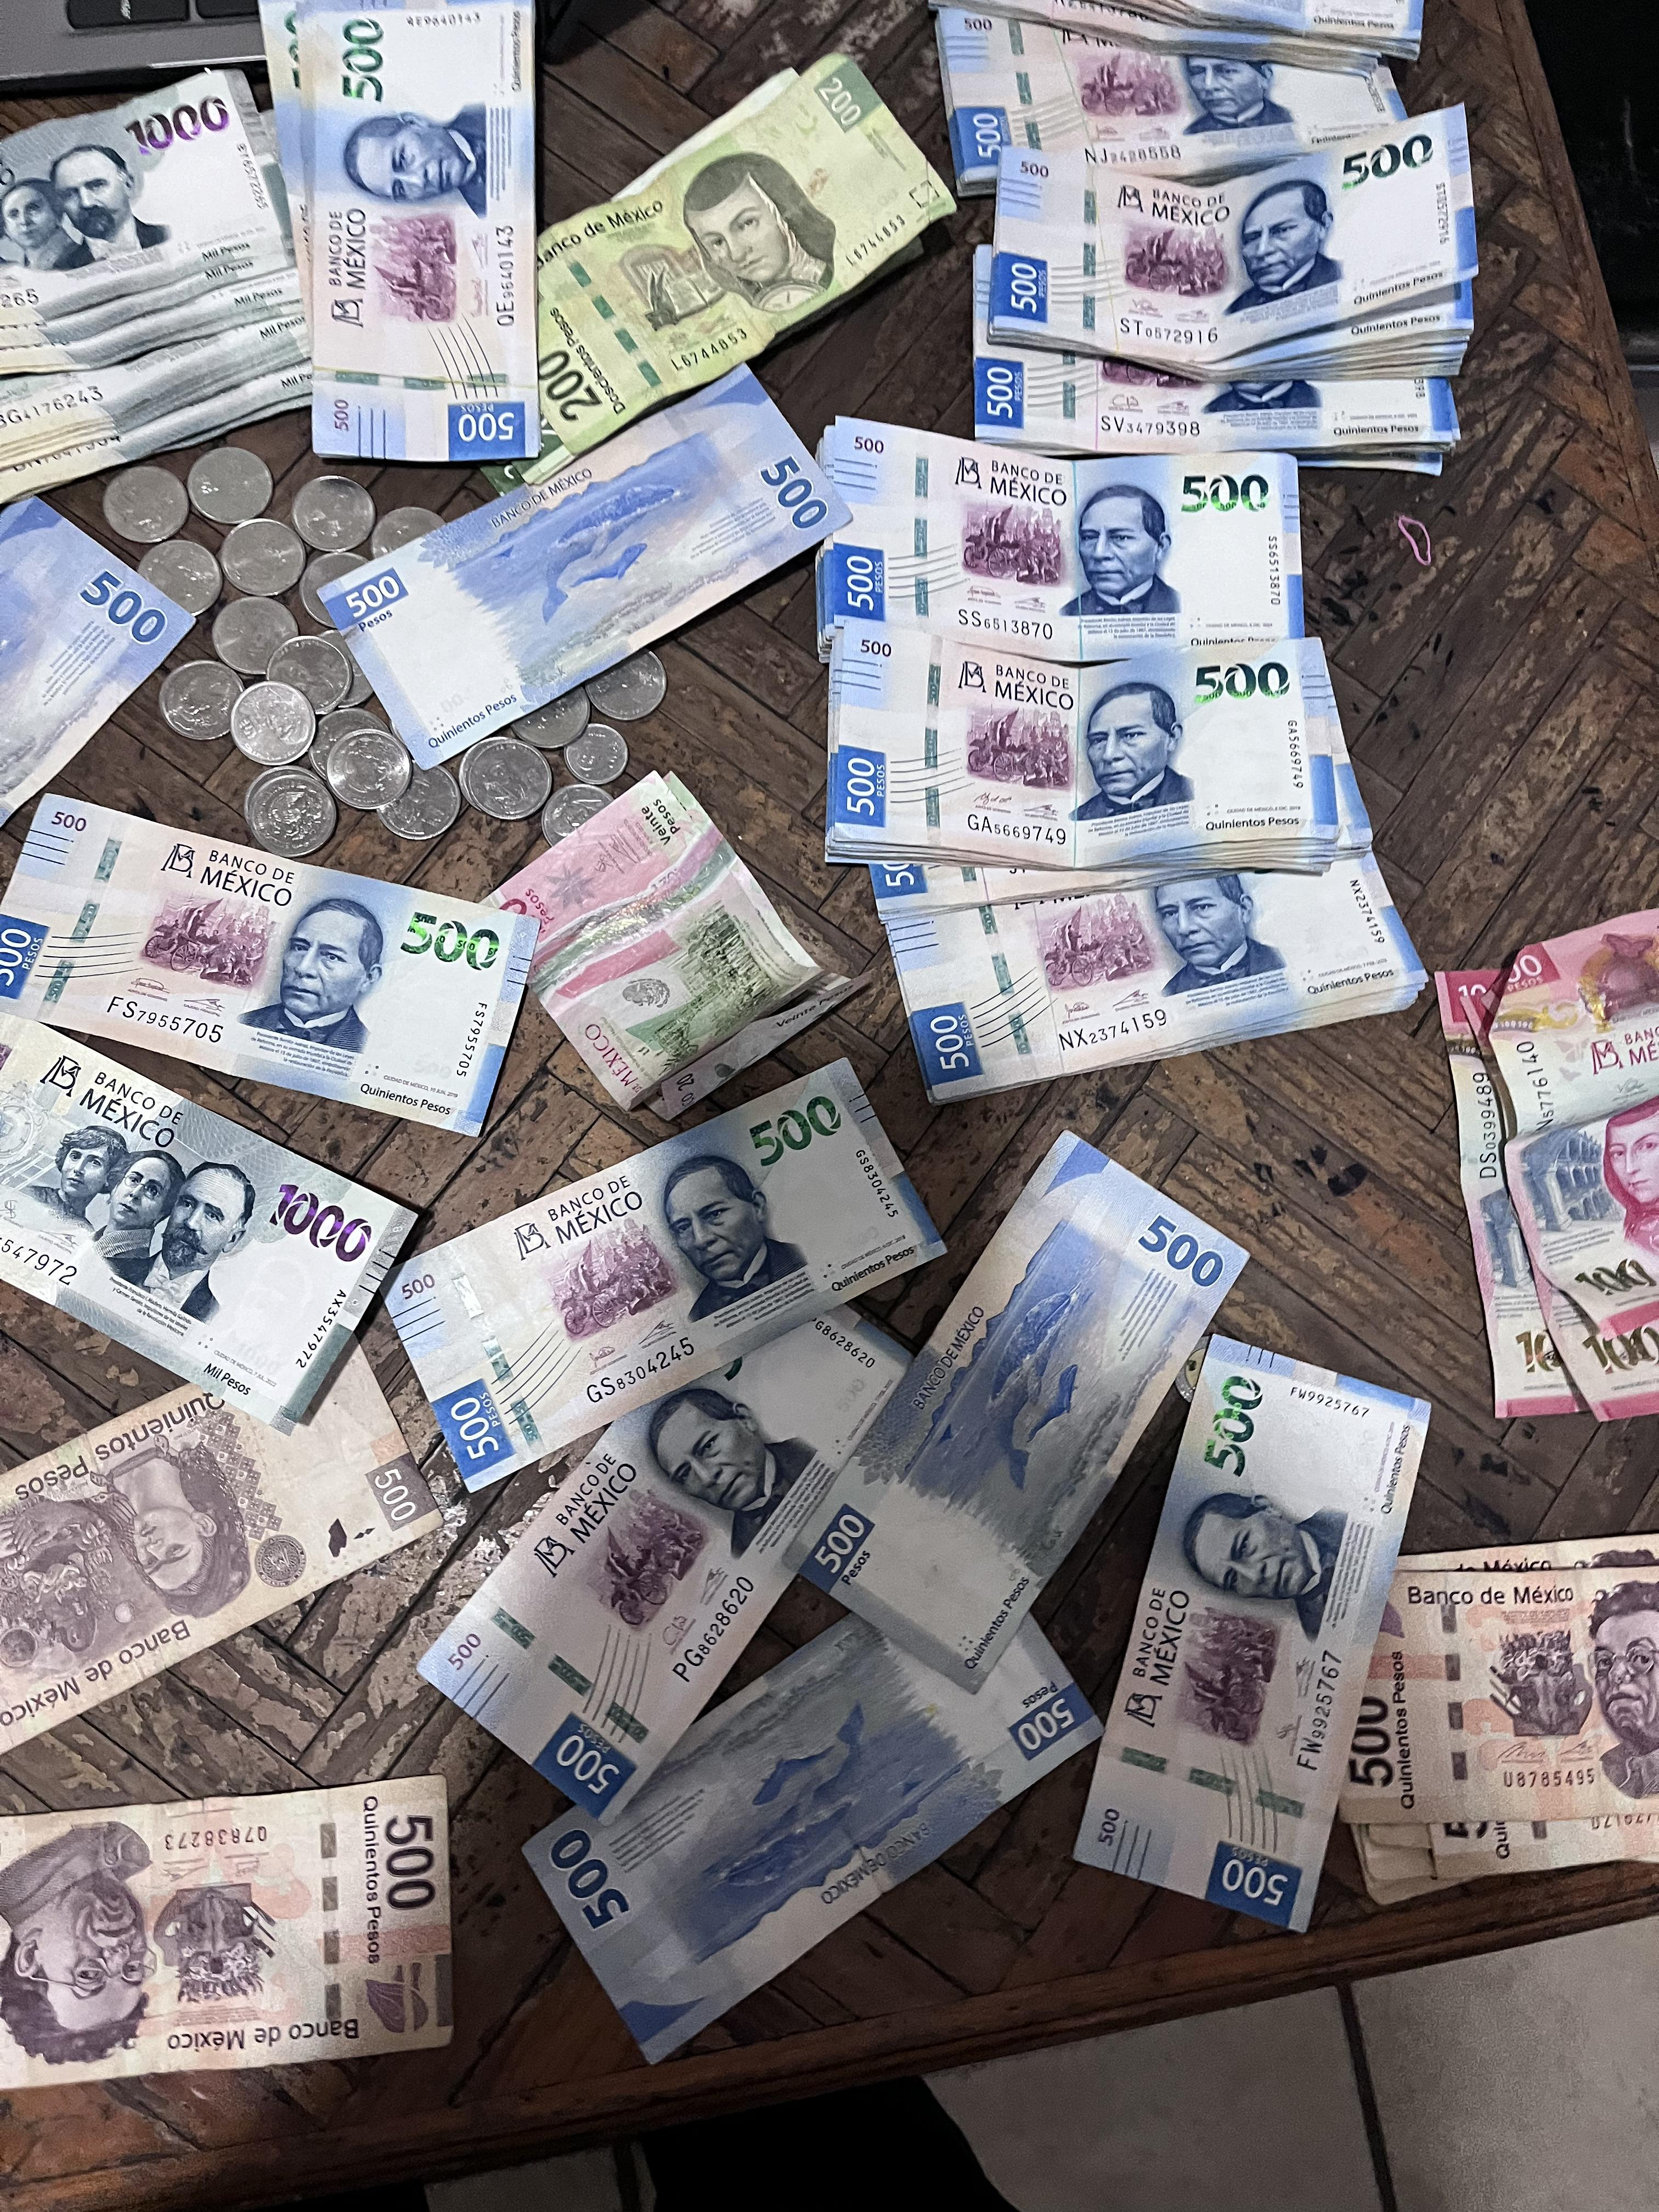100: (1424, 911, 1659, 1433)
1000: (0, 1010, 415, 1421), (0, 101, 342, 455)
20: (467, 768, 842, 1129)
200: (484, 42, 1018, 448)
500: (5, 1374, 441, 1794), (1291, 1507, 1659, 1982), (0, 1770, 511, 2109)
500 nuevo: (460, 1599, 1147, 2092), (349, 1289, 941, 1818), (291, 354, 948, 754), (364, 1083, 978, 1477), (861, 1125, 1262, 1689), (960, 153, 1603, 500), (756, 603, 1462, 918), (3, 787, 559, 1153), (1084, 1284, 1370, 1946), (871, 798, 1467, 1097), (268, 0, 575, 496), (763, 404, 1337, 650), (899, 0, 1507, 186), (0, 472, 225, 853)
